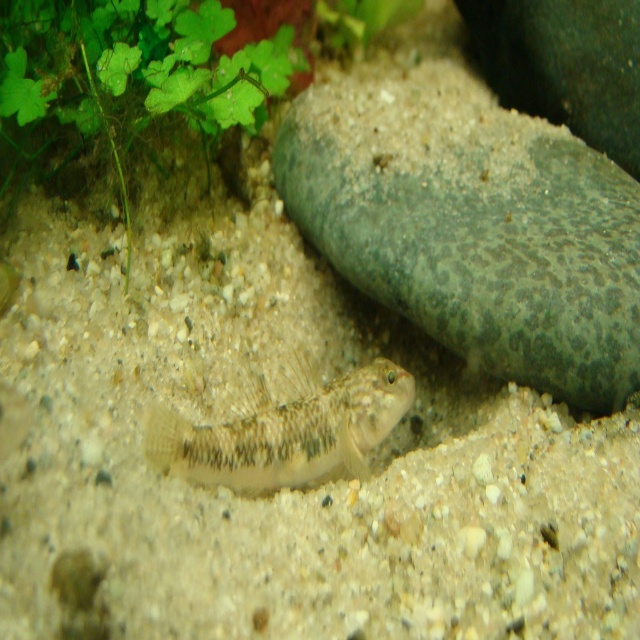Fish: (132, 348, 431, 498)
